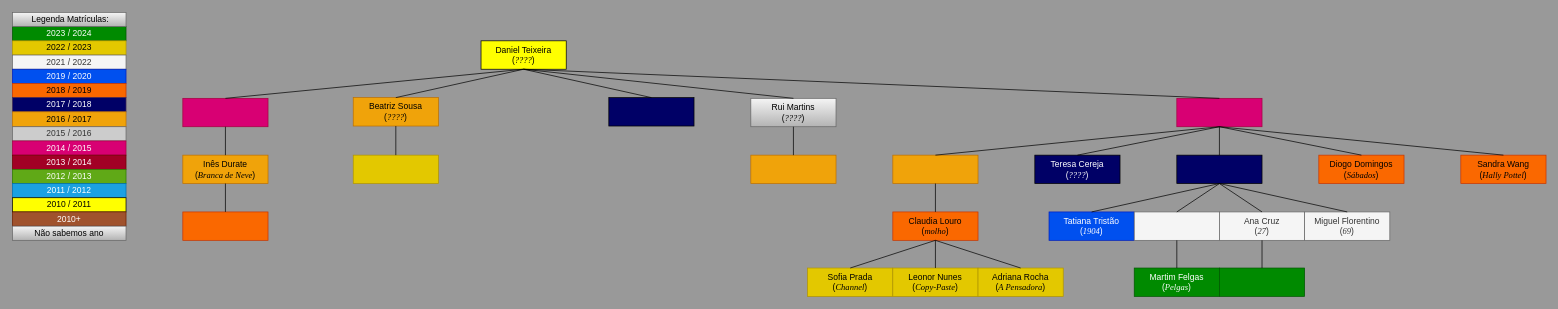
This 1558x309 diagram has some shape labels left out. Each missing label, with the centre of its shape:
"Ana Grácio ( ???? )" belongs at pixel 1219 112.
"Ema Tavares ( ???? )" belongs at pixel 395 169.
"Gonçalo Pintassilgo ( Alô )" belongs at pixel 1262 281.
"João Gomes ( 19 )" belongs at pixel 1176 225.
"Levi Galaio ( ???? )" belongs at pixel 225 112.
"Marcelo Marques ( ???? )" belongs at pixel 793 169.
"Nuno Sena ( ???? )" belongs at pixel 651 111.
"Pedro Muzachio ( Mosaico )" belongs at pixel 1219 169.
"Rita Marques ( Bubbles )" belongs at pixel 225 225.
"Sérgio Oliveira ( INEM )" belongs at pixel 935 169.
